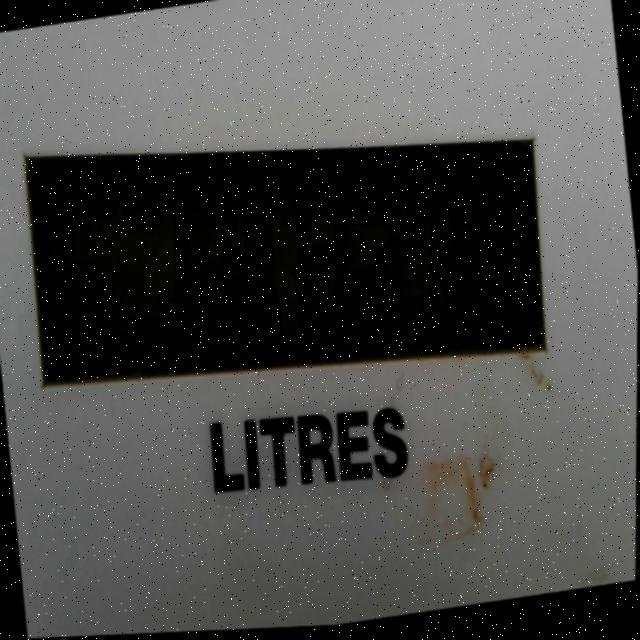.: (356, 316, 370, 339)
1: (161, 173, 205, 341)
2: (205, 165, 281, 350), (363, 166, 434, 341)
8: (282, 161, 357, 338), (440, 155, 513, 328)
